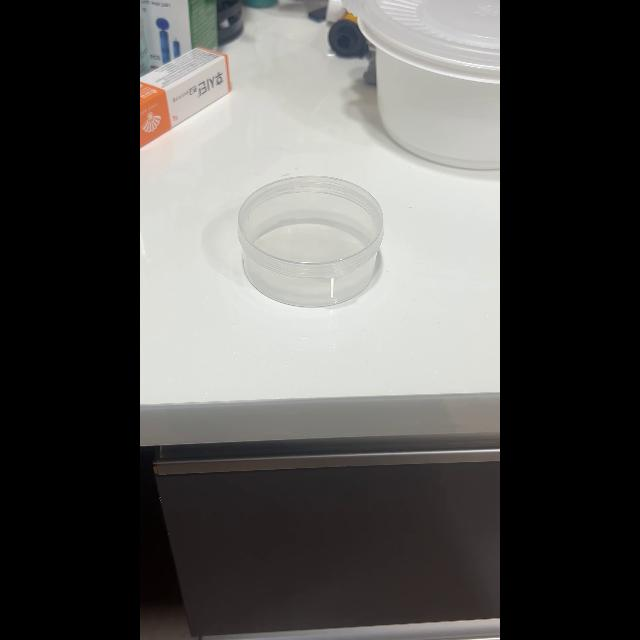clean: (238, 177, 382, 306)
